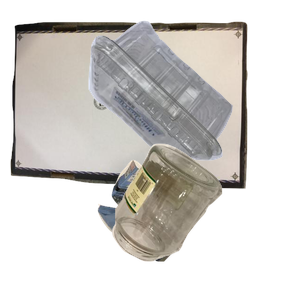cardboard: (10, 19, 250, 199)
glass: (110, 141, 300, 300)
plastic: (86, 18, 300, 171)
trash: (95, 157, 282, 300)
